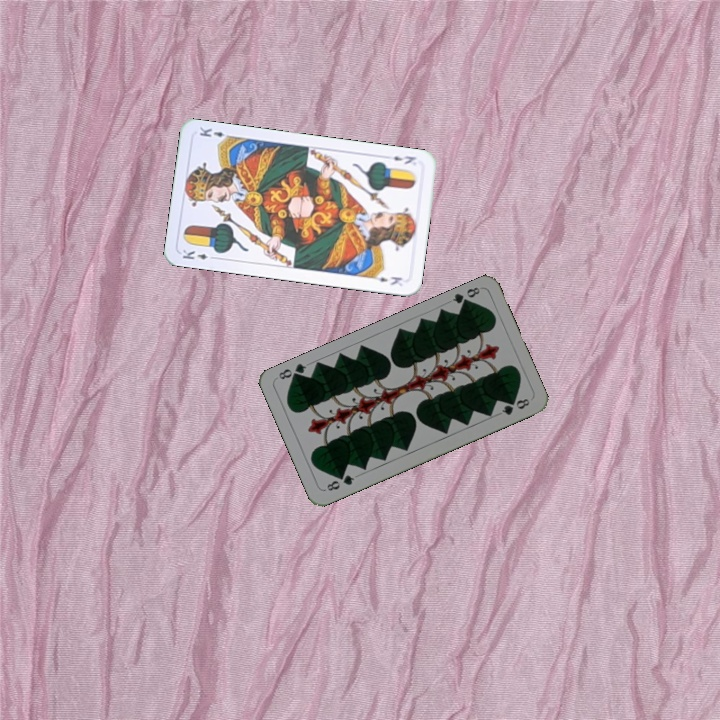EK: (178, 246, 219, 262), (389, 152, 418, 167)
G8: (448, 283, 482, 310), (322, 471, 357, 494)
